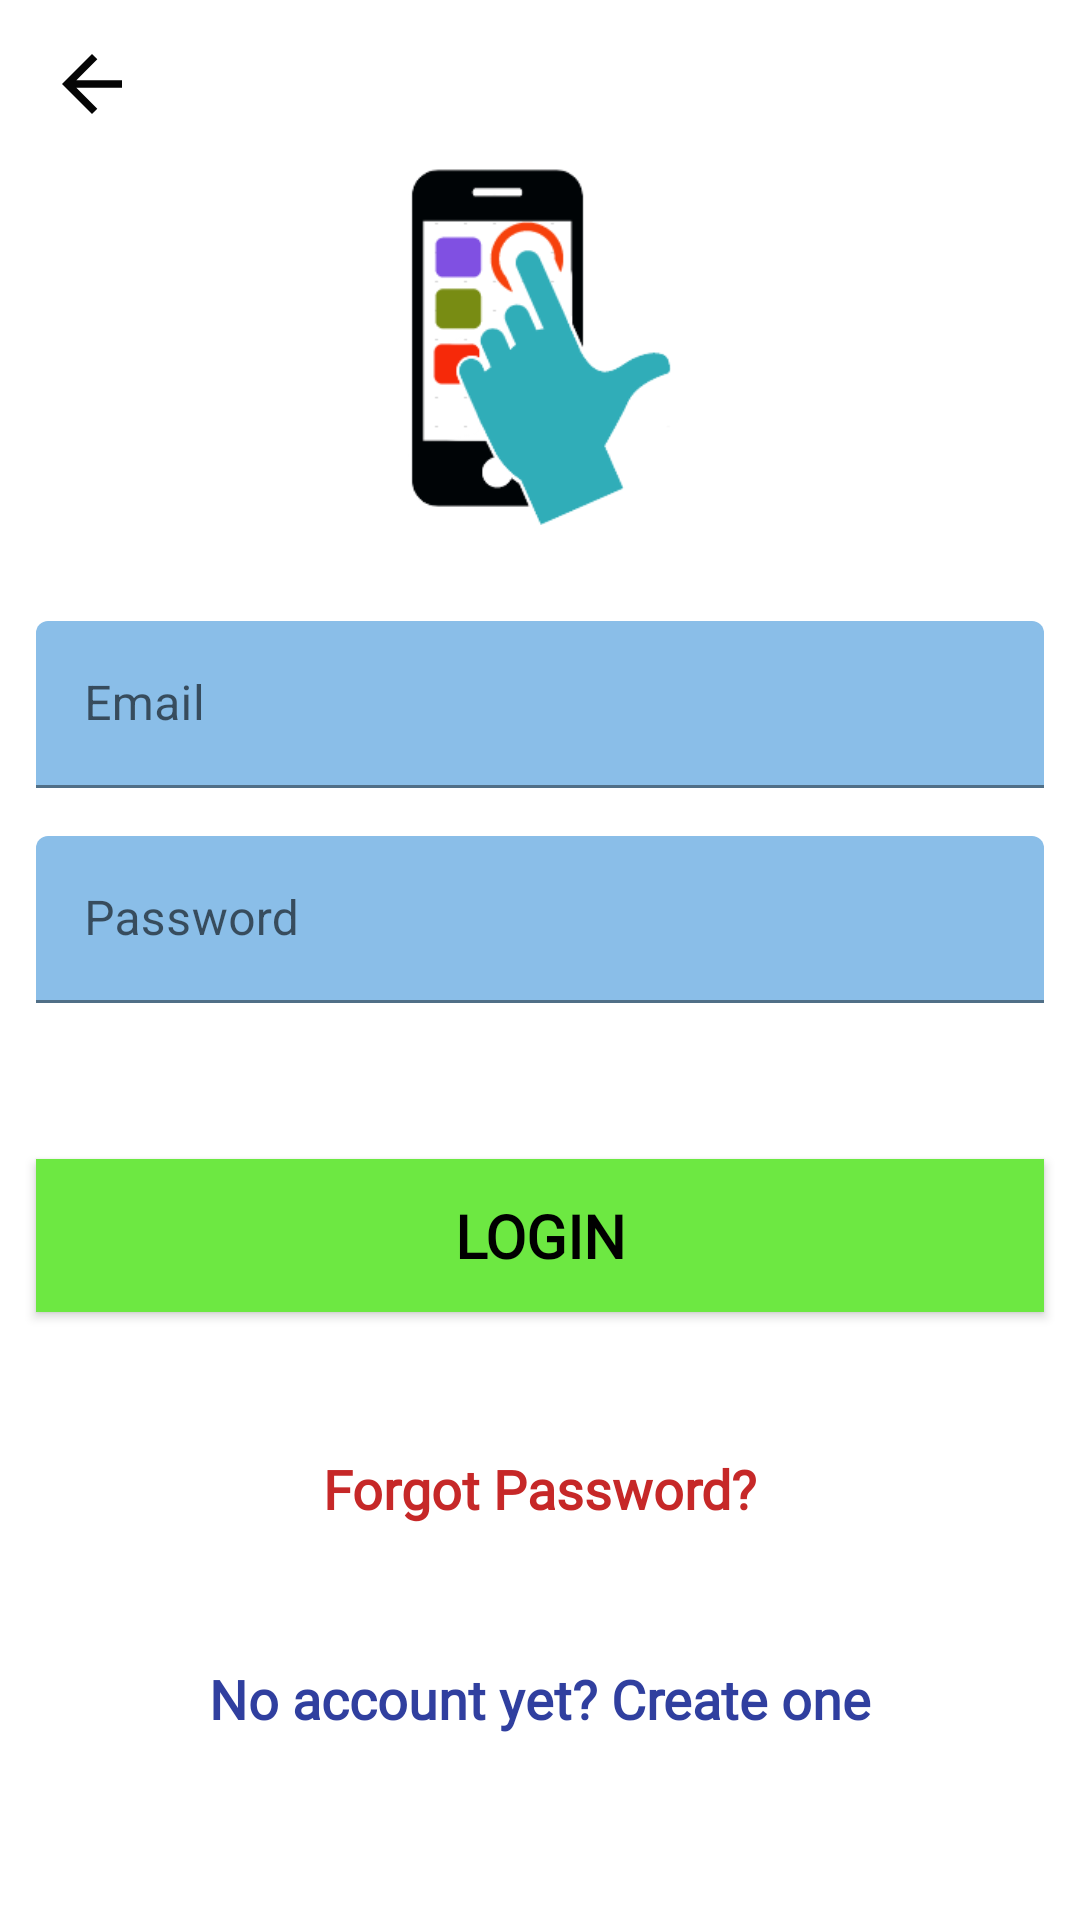

Icon bounding boxes for this 1080×1920 phone screenshot, format bbox=(x1, y1, x2, y2):
back arrow: bbox=(62, 54, 122, 114)
